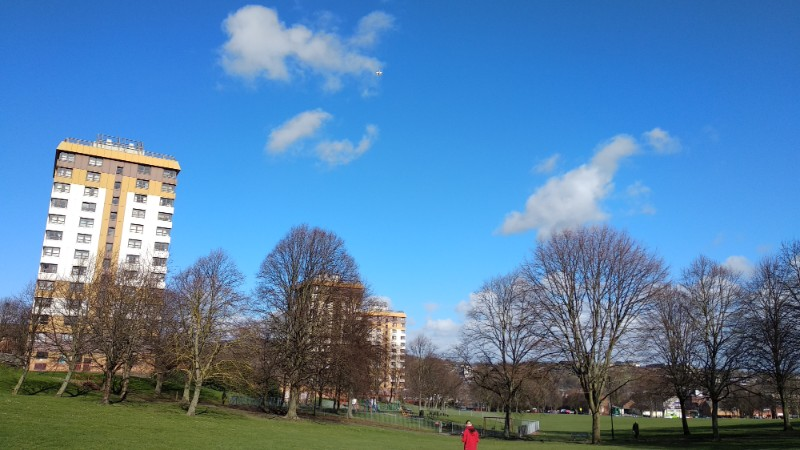drone: (374, 67, 385, 78)
